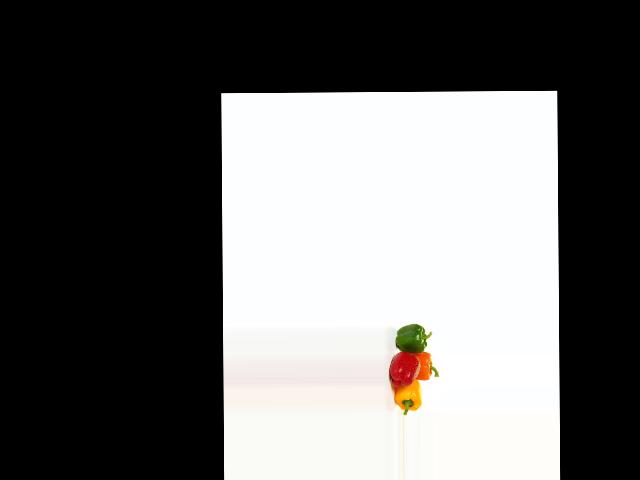bell_pepper: (390, 323, 429, 355)
